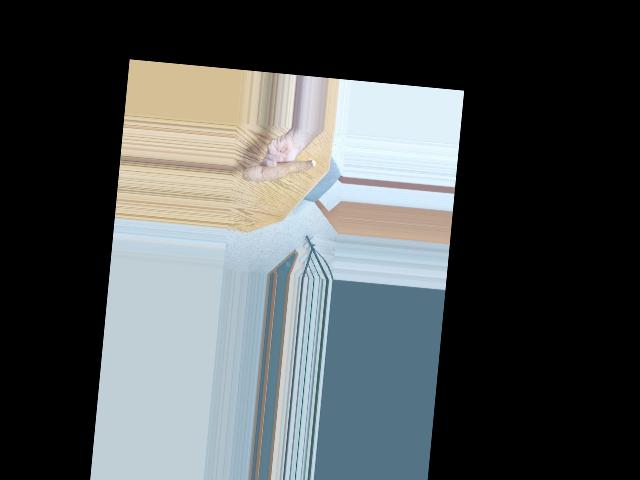sweet_potato: (243, 150, 317, 189)
